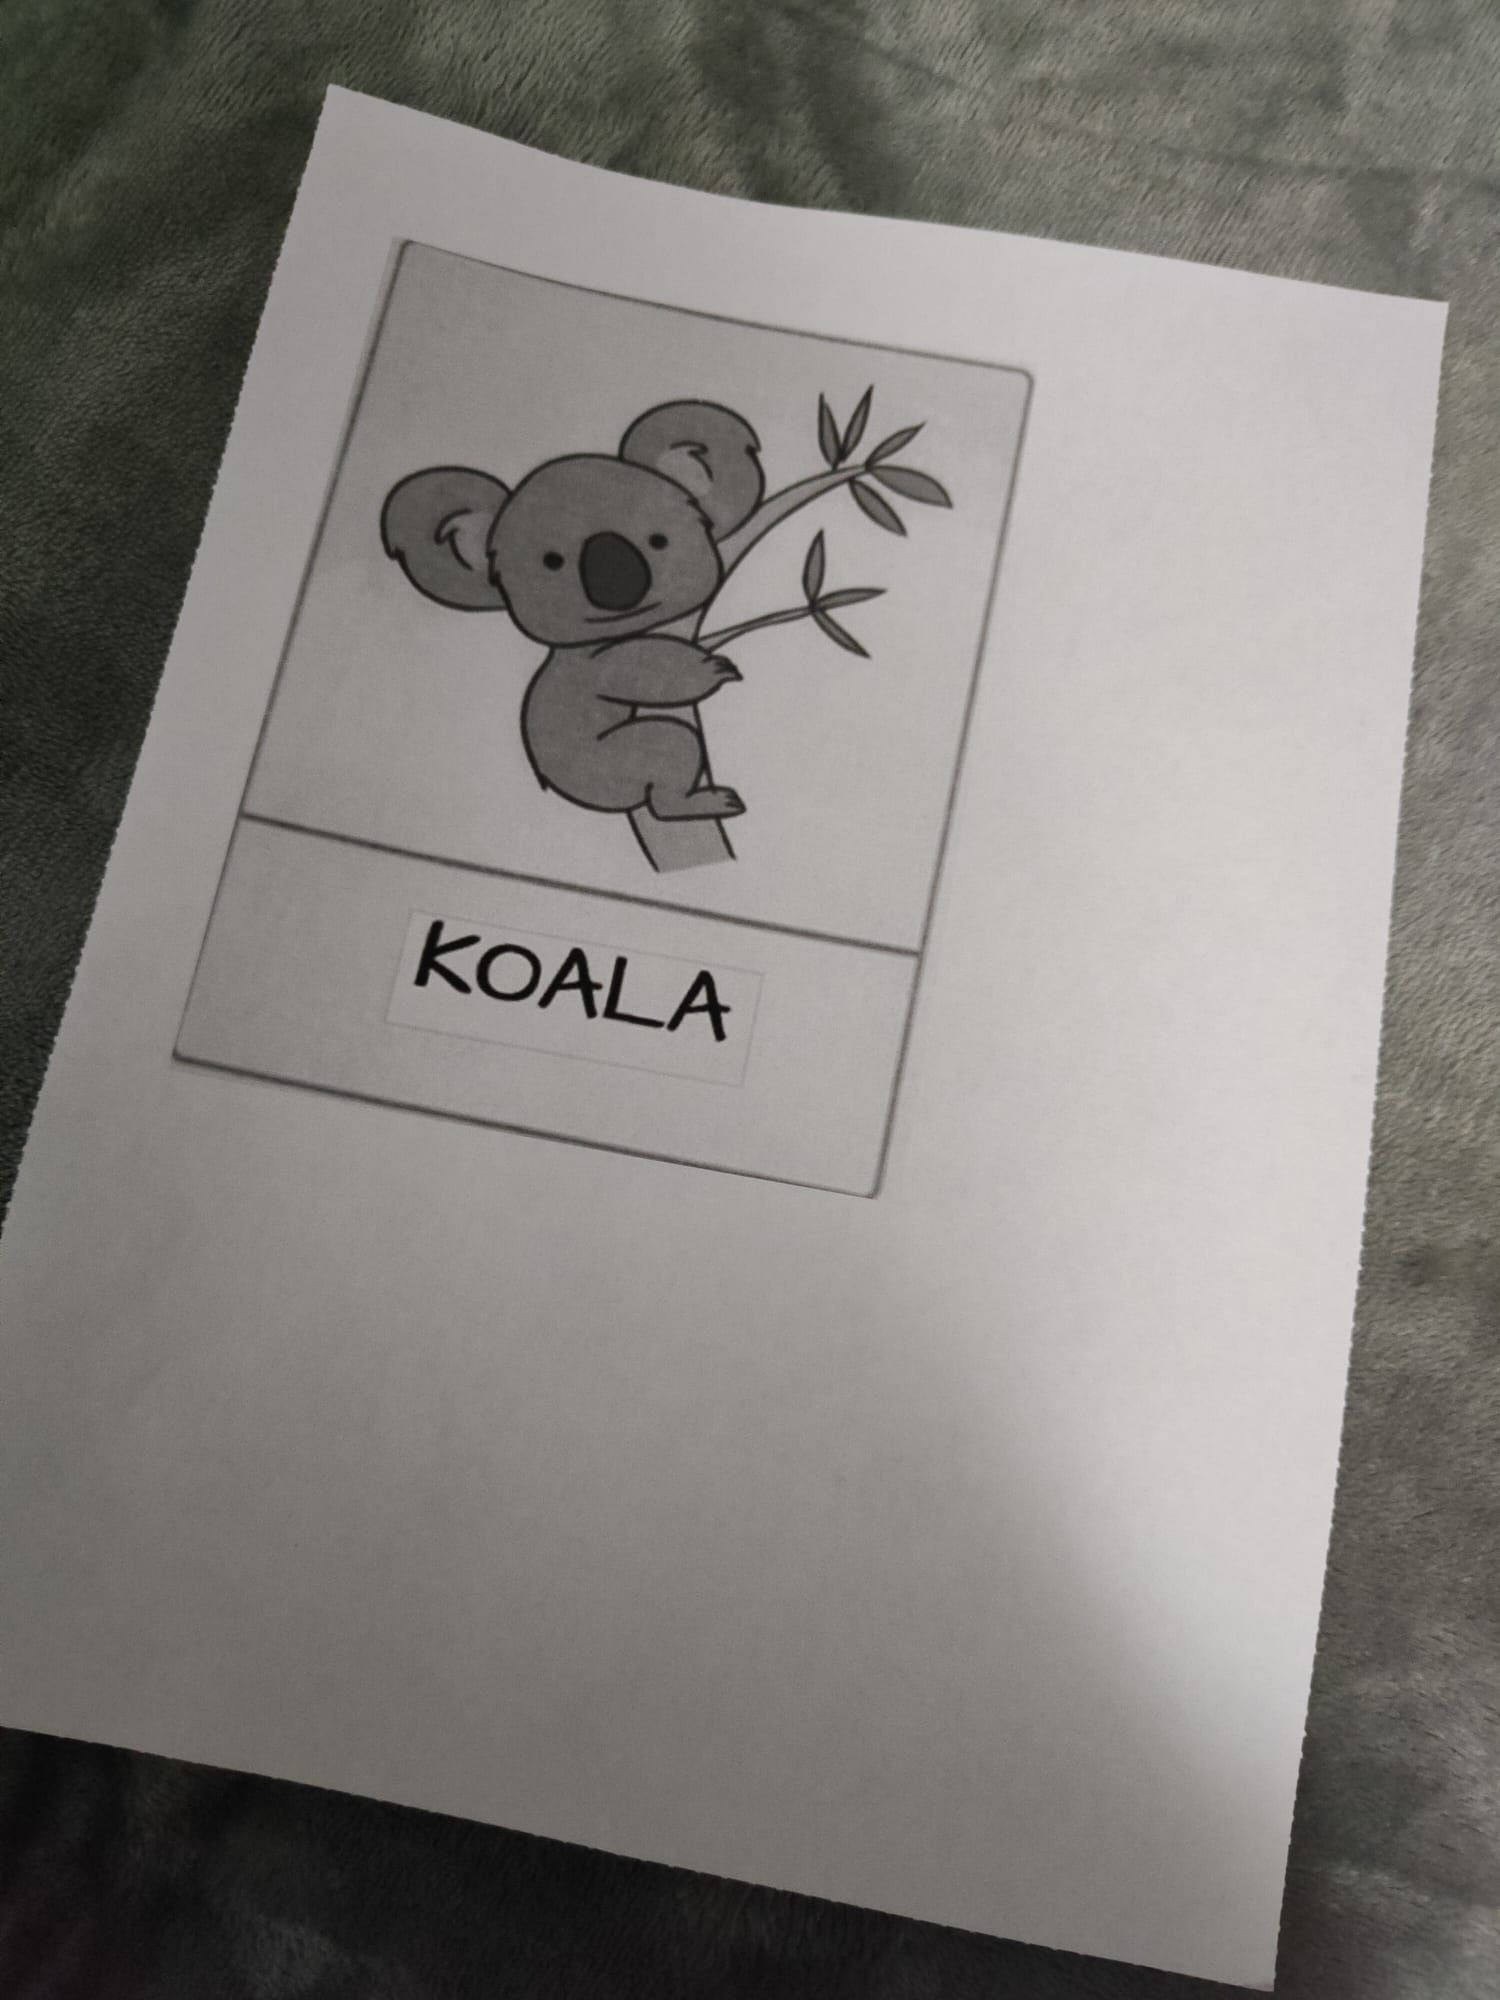koala: (291, 253, 977, 1208)
